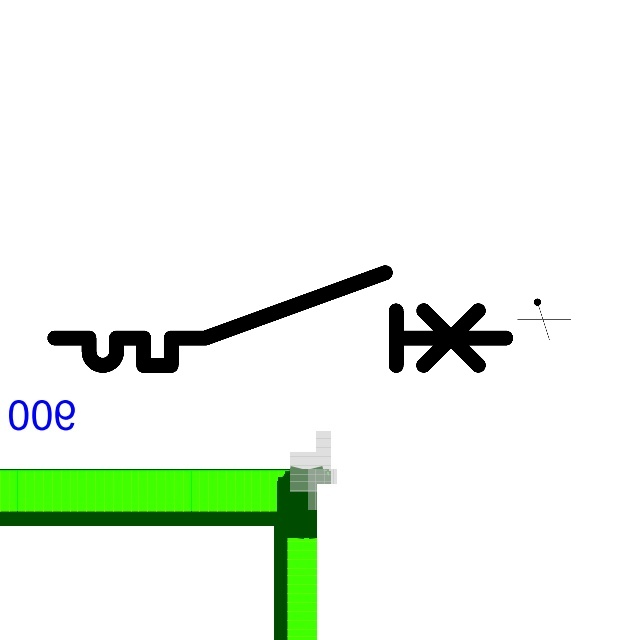interruptor_termomagnetico: (43, 261, 517, 377)
